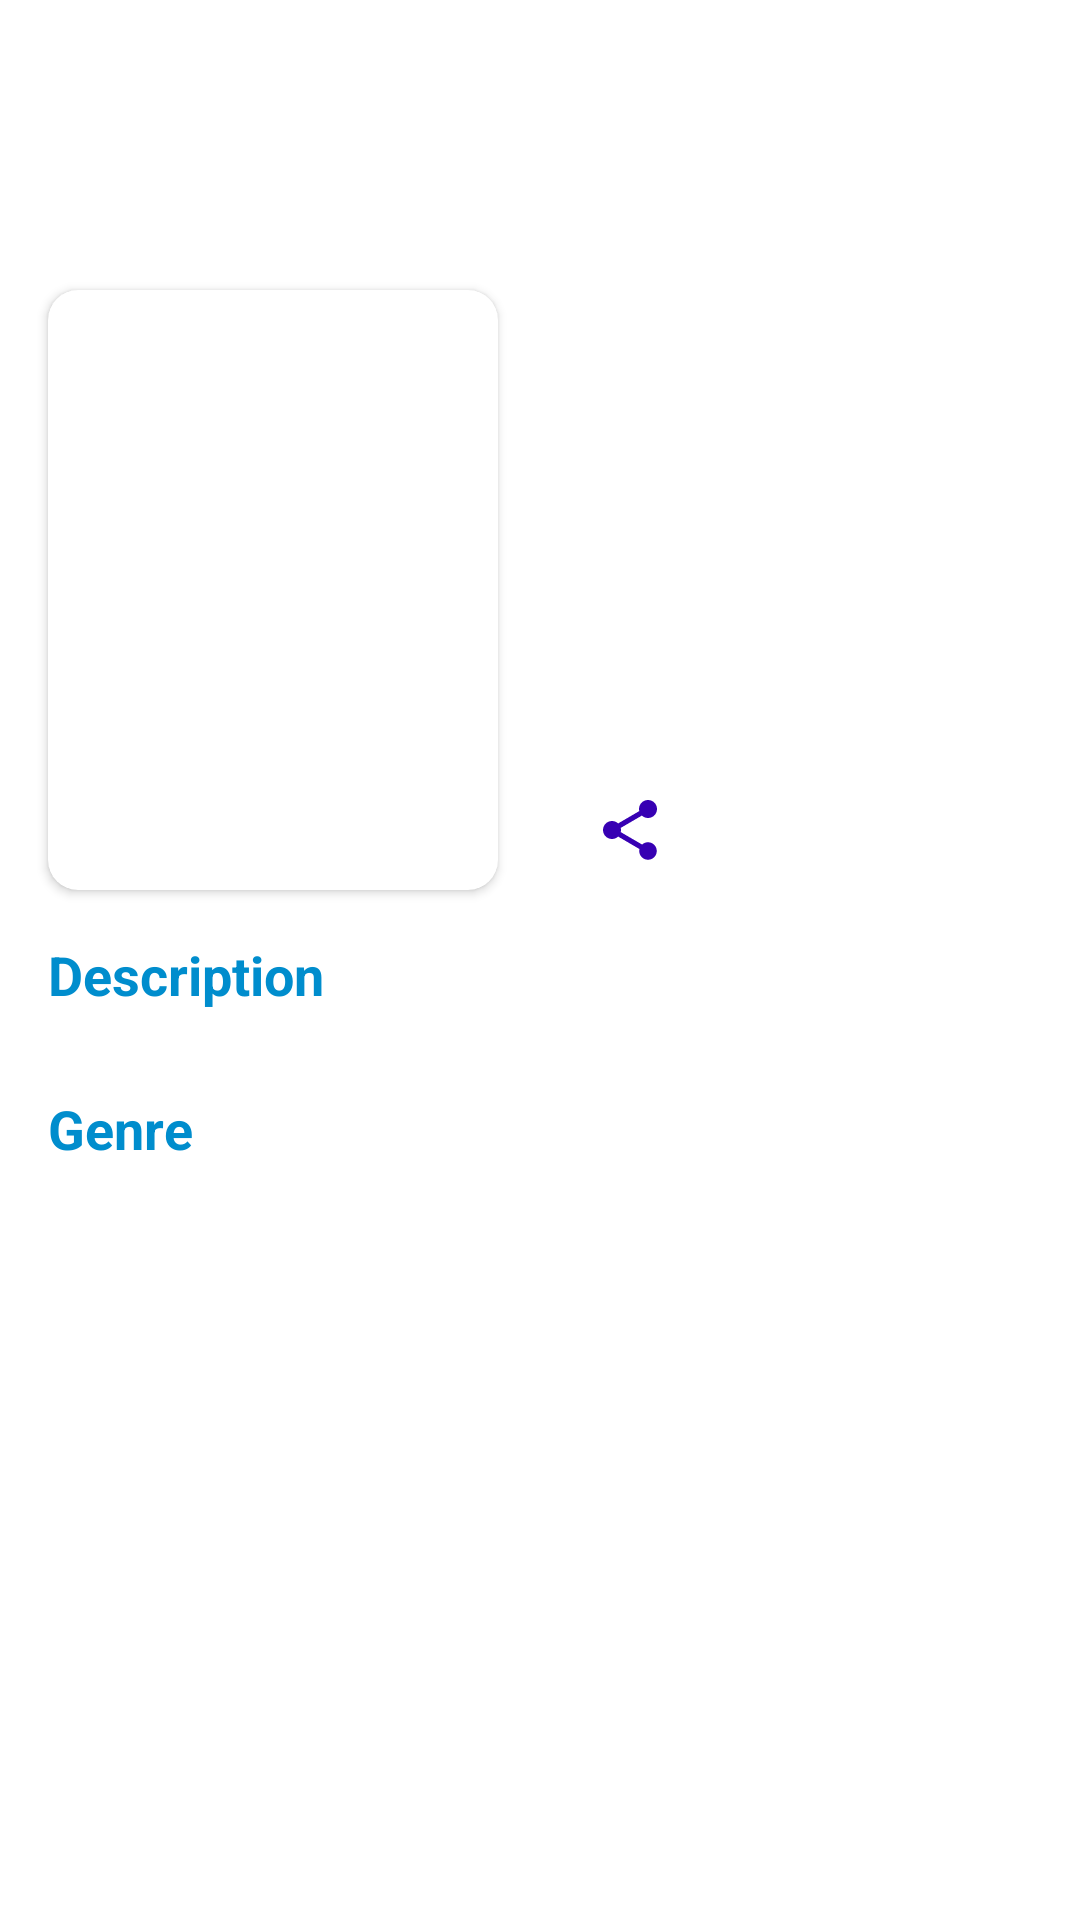

Where icons sit on this 1080×1920 app screen, as (x1=x1, y1=y1, x2=x2, y2=y2):
share: (x1=603, y1=800, x2=657, y2=860)
